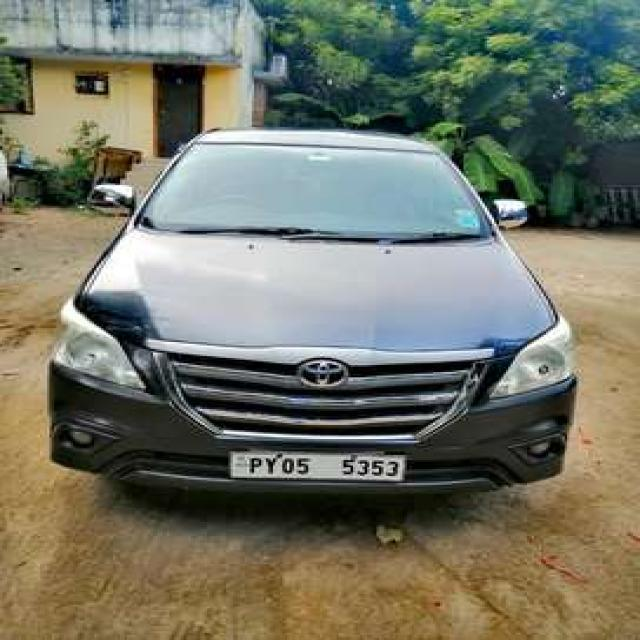licenseplate: (231, 450, 406, 482)
